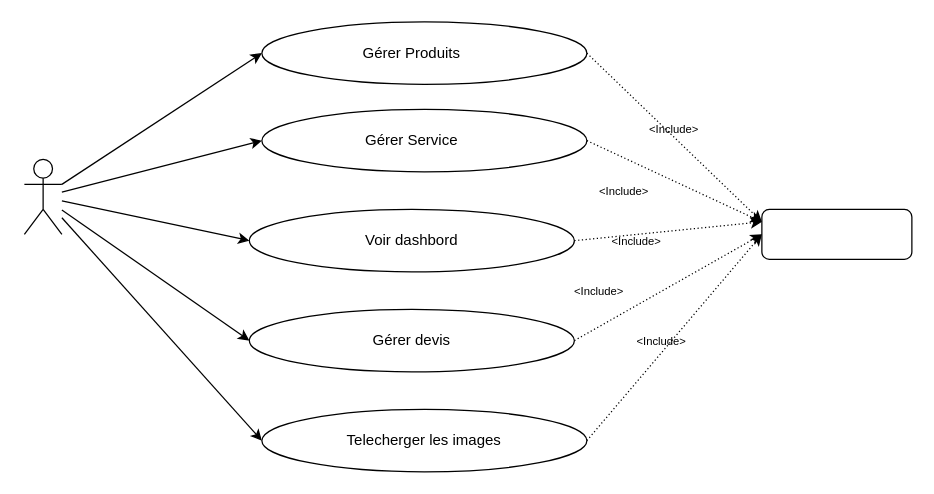
This 934x494 diagram has some shape labels left out. Here are the shapes that lost their labels. From the top down, the box of each, then its label:
(23, 158, 62, 234): Admin
(761, 208, 912, 259): S’authentifier
